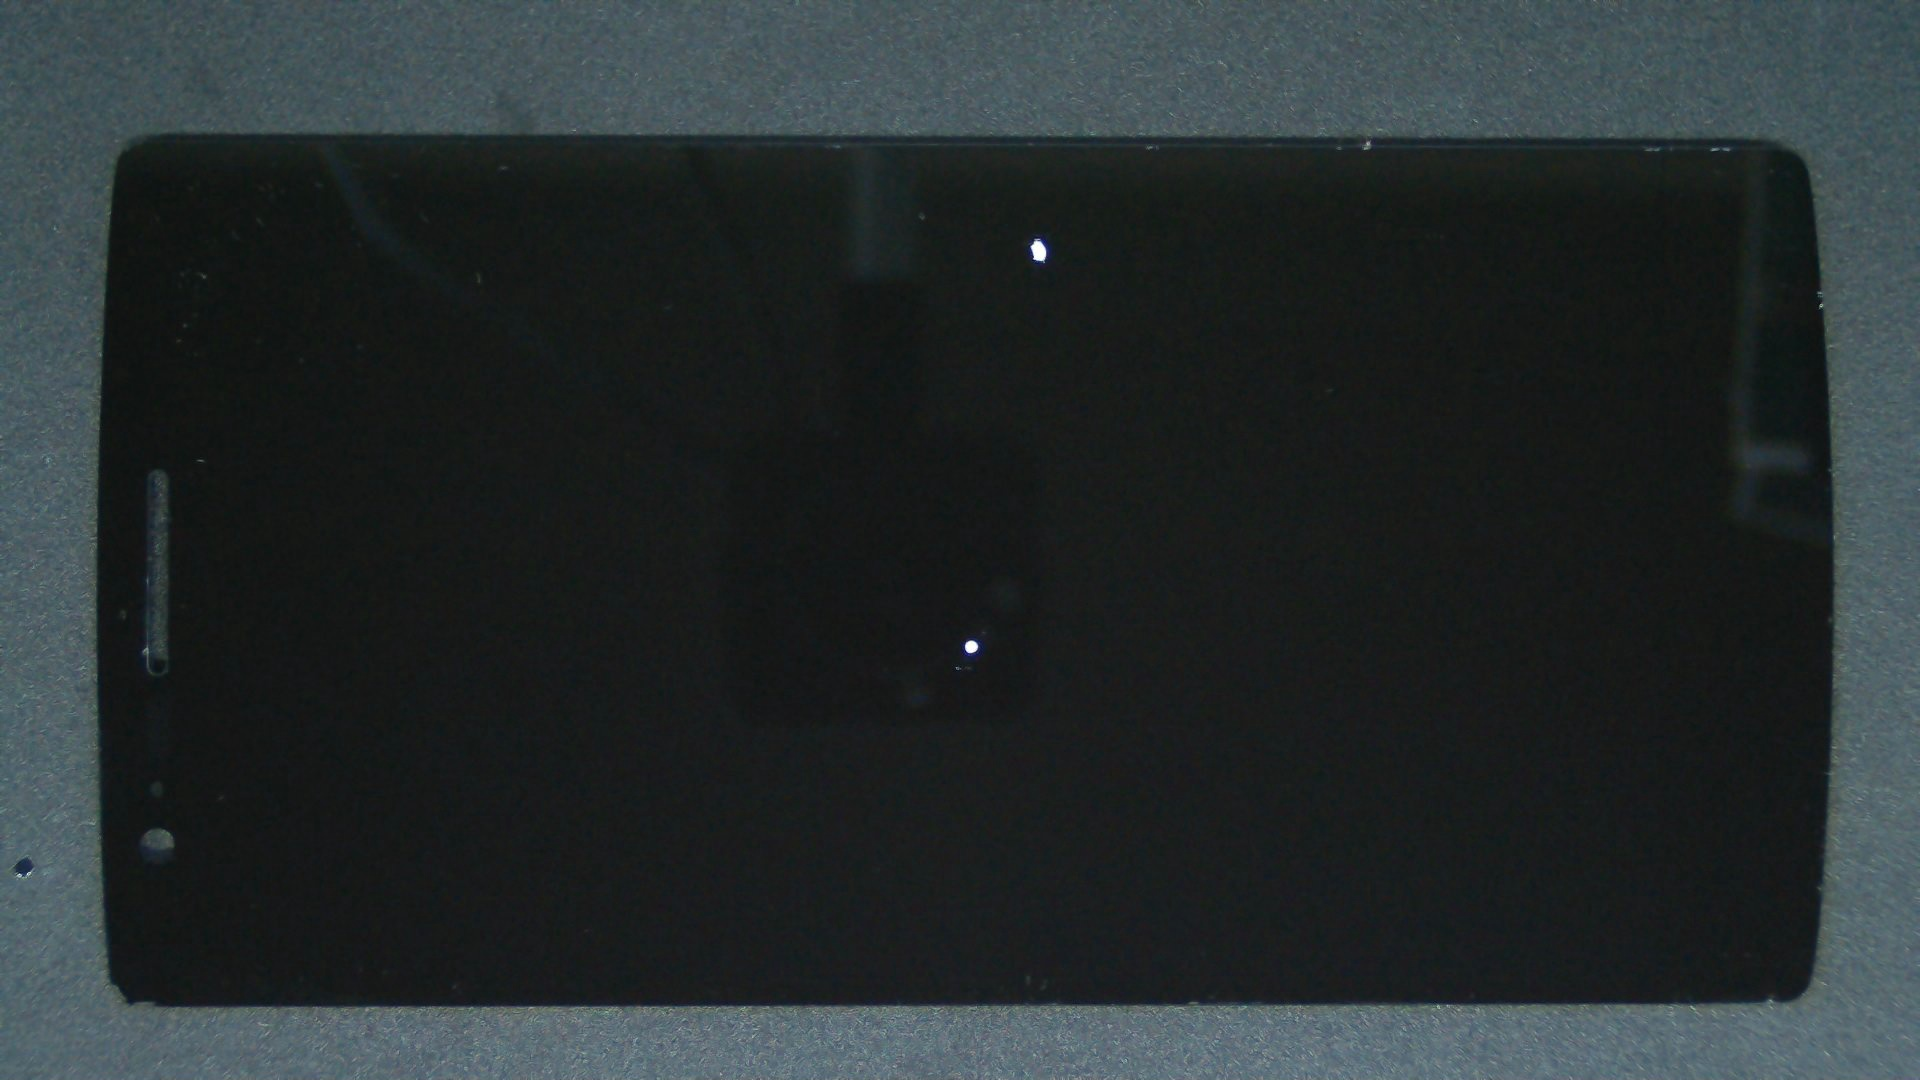oil: (485, 319, 1455, 959), (517, 117, 1548, 355)
